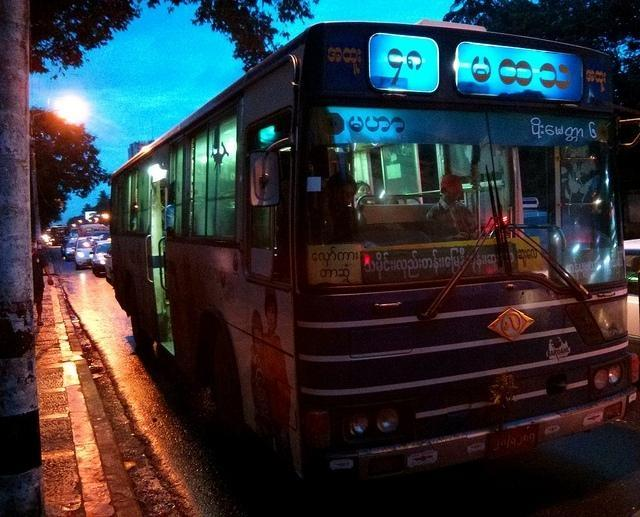bus: (109, 18, 629, 498)
car: (625, 238, 640, 342), (92, 240, 115, 276), (74, 236, 100, 267), (78, 224, 110, 238), (60, 236, 78, 258), (106, 253, 114, 287)
